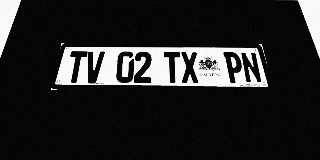0: (115, 51, 135, 83)
2: (134, 52, 152, 83)
N: (240, 52, 263, 83)
P: (223, 52, 245, 83)
T: (65, 51, 88, 83), (164, 52, 181, 83)
V: (83, 51, 105, 83)
X: (180, 52, 199, 83)
